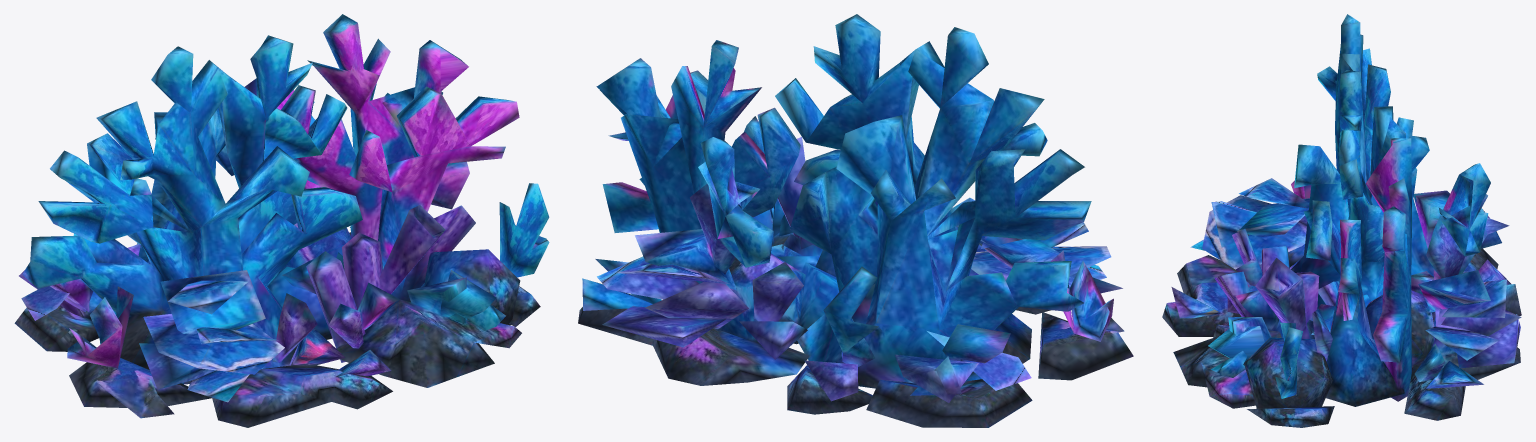
File: coral_blue.glb
The picture shows the model from 3 angles, left to right: view 1: azimuth 30°, elevation 25°; view 2: azimuth 150°, elevation 25°; view 3: azimuth 270°, elevation 25°; orthographic projection. The views are drawn at different scales.
Size of the model in its own units: 1 by 0.6582 by 0.7559.
1 material, 1 textured.
